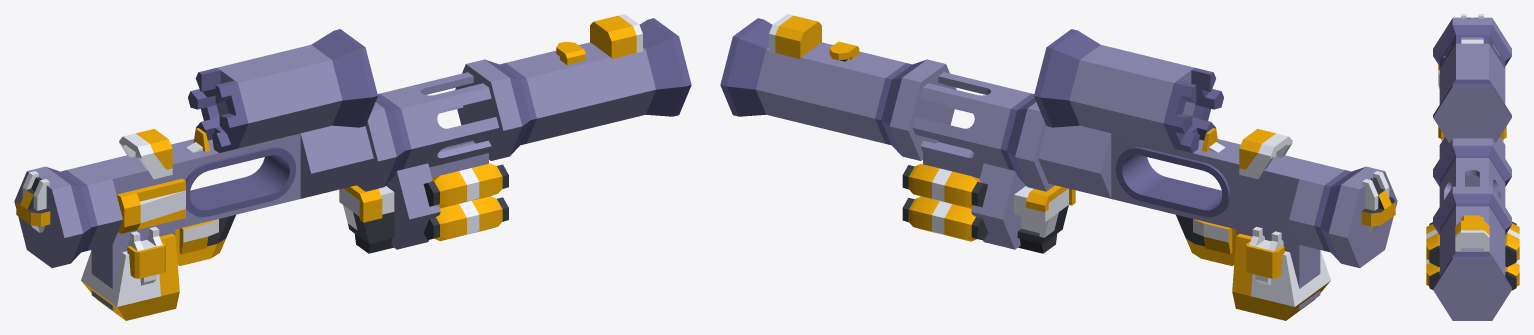
File: fungun.fbx
3 renders of one model, left to right at view 1: azimuth 30°, elevation 25°; view 2: azimuth 150°, elevation 25°; view 3: azimuth 270°, elevation 25°, orthographic. The views are drawn at different scales.
Visible parts, largest first — view 1: mergedBlocks; view 2: mergedBlocks; view 3: mergedBlocks.
Part boxes in pixels (left/top/right/bottom): mergedBlocks: left=14, top=14, right=691, bottom=320; mergedBlocks: left=720, top=14, right=1397, bottom=320; mergedBlocks: left=1426, top=14, right=1519, bottom=320.
Bounding box in the file's own units: 102 × 32.5 × 16.33.
